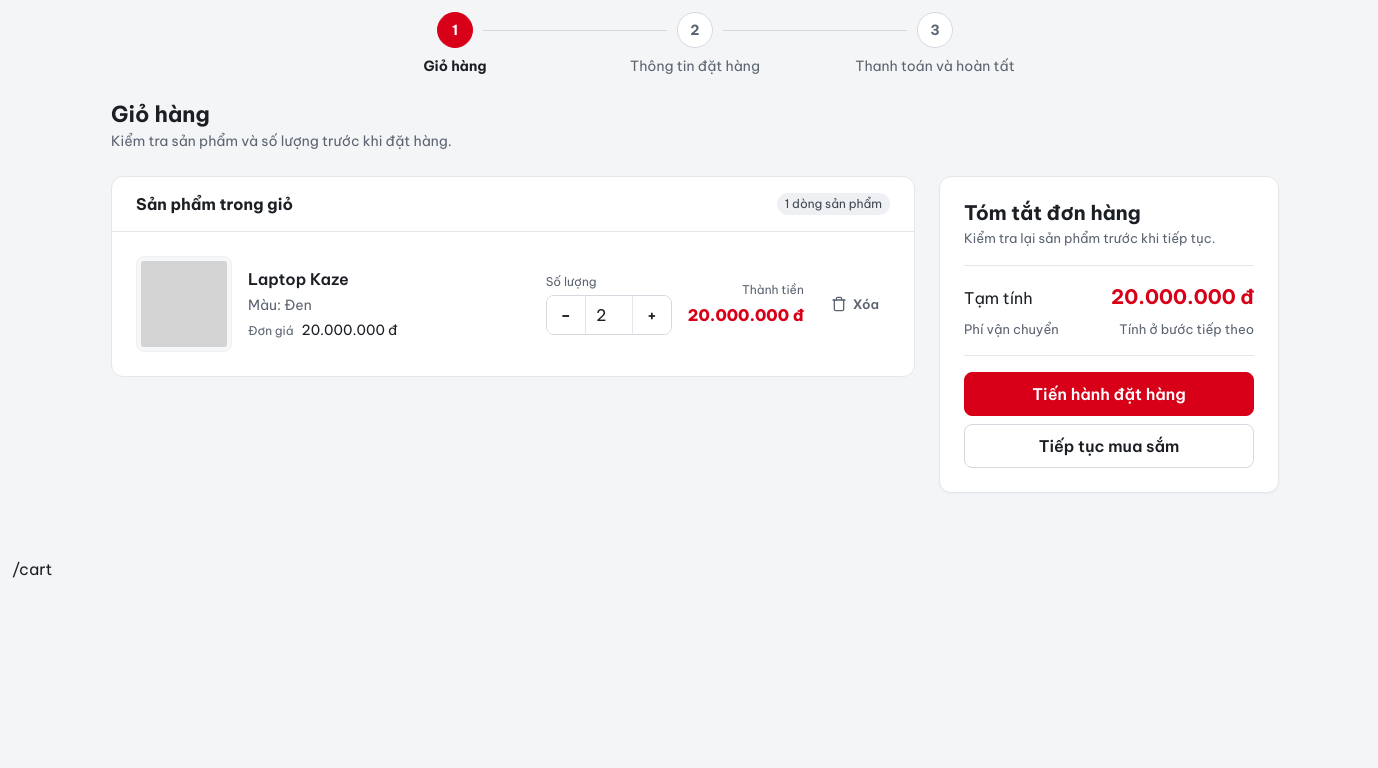
Test: CartPage: lỗi CART_LIMIT_EXCEEDED › thông báo biến mất khi đổi số lượng thành công sau đó
This screenshot has width=1378, height=768.
Click the button "+" at (652, 315), box [633,296,671,334]
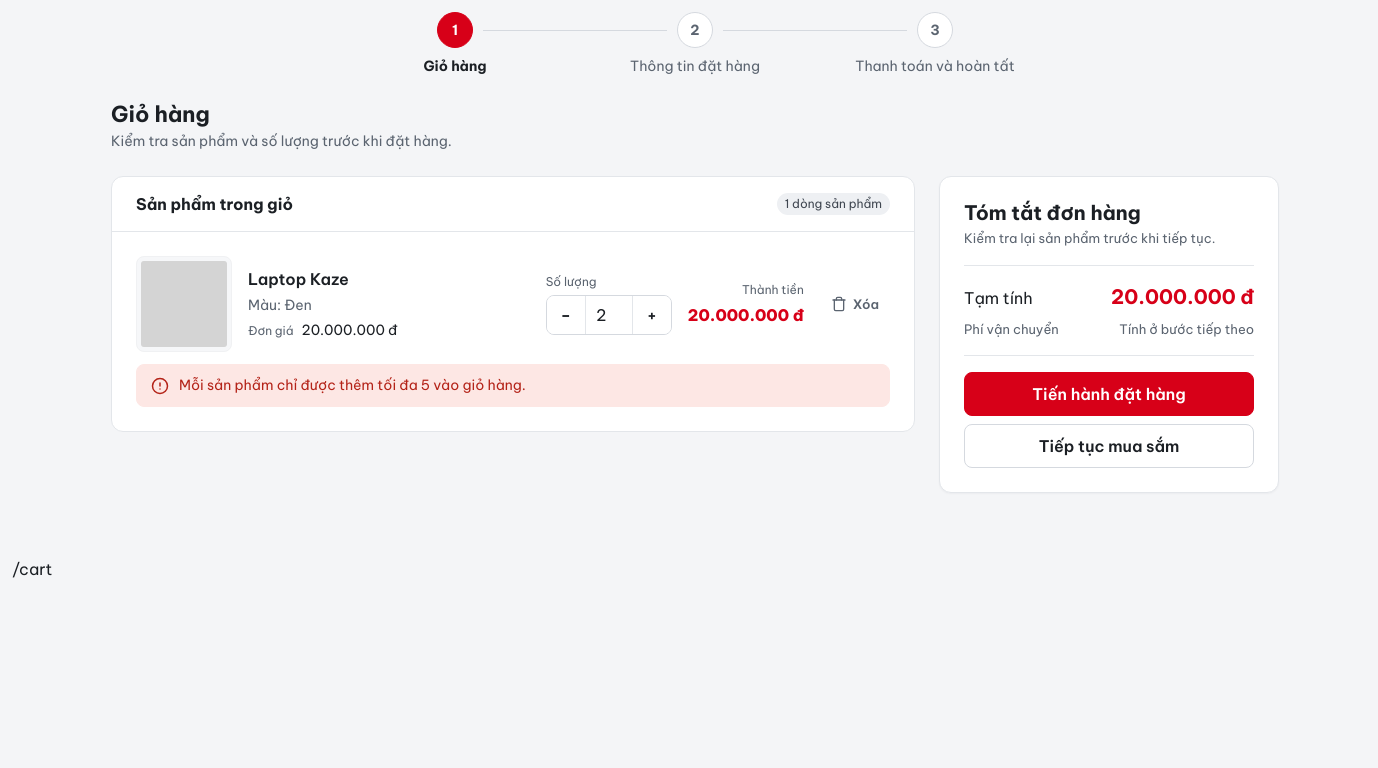
Expected: the message "Mỗi sản phẩm chỉ được thêm tối đa 5 vào giỏ hàng." is shown, [136,364,890,407]
Click the button "−" at (566, 315), box [547,296,585,334]
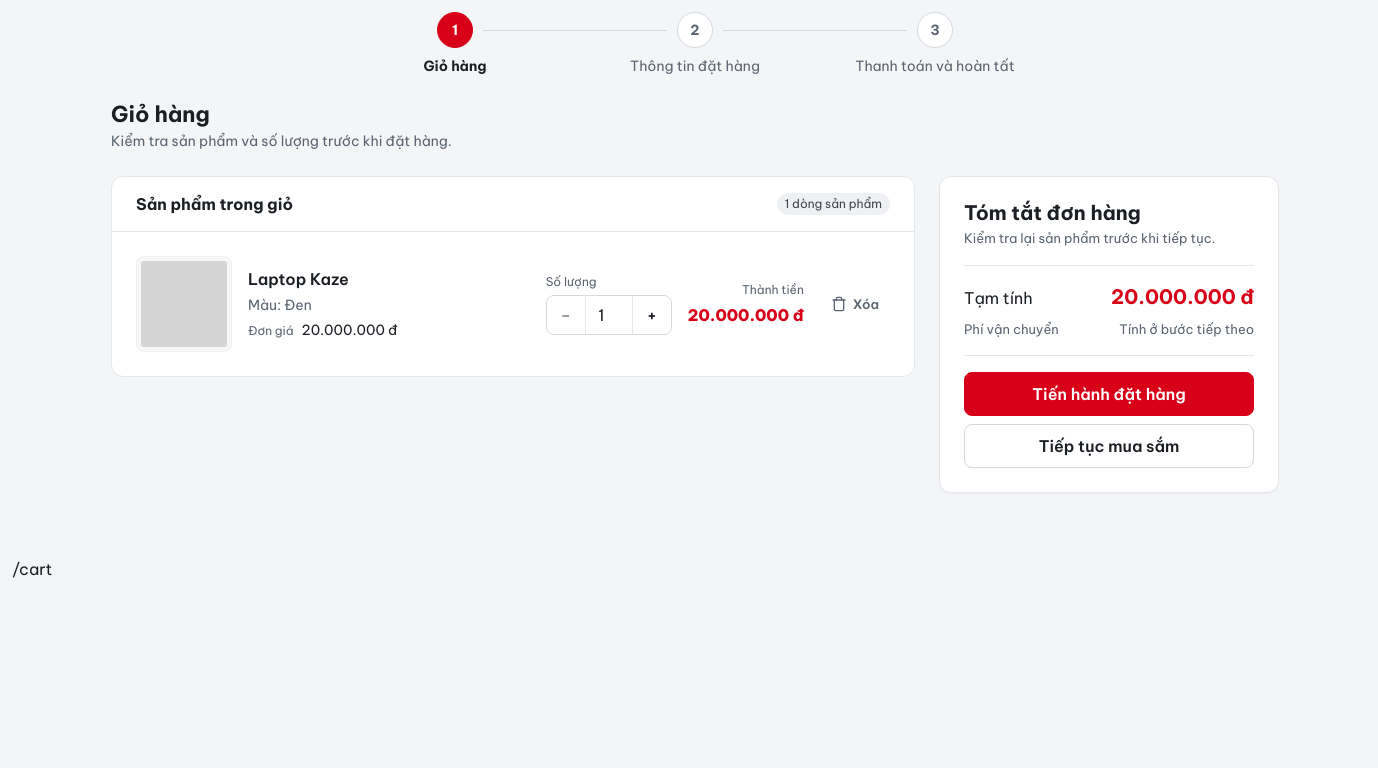
Expected: the message "Mỗi sản phẩm chỉ được thêm tối đa 5 vào giỏ hàng." is gone
